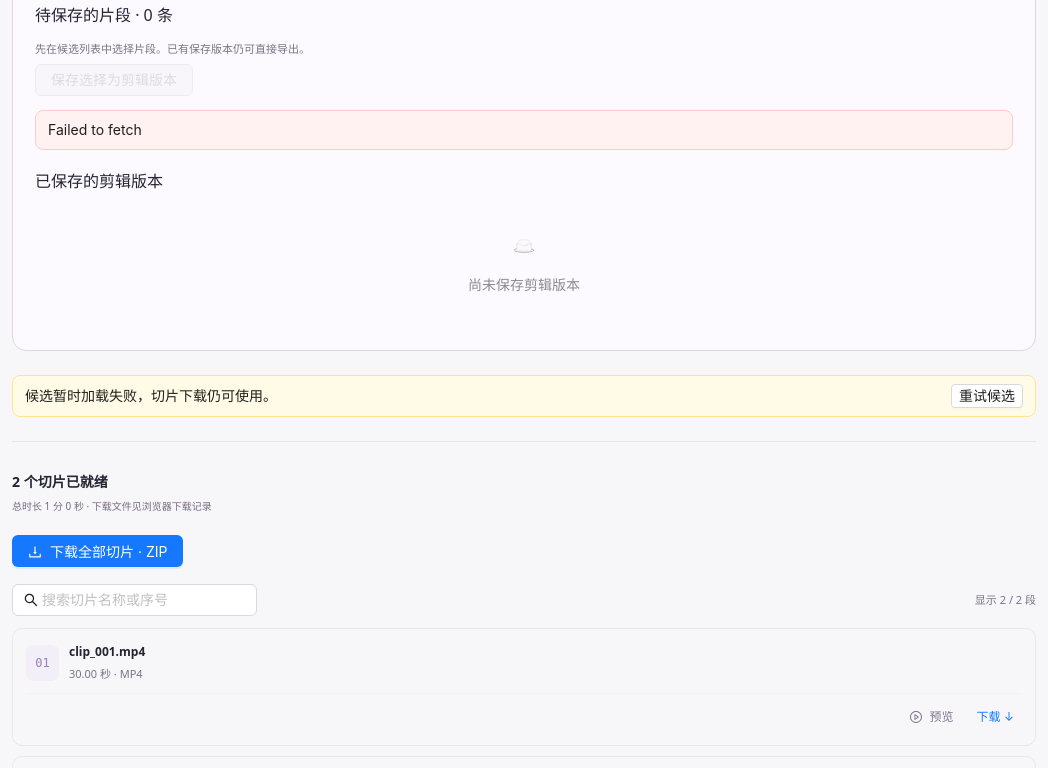
Test: candidate results › retries after failure while keeping clip downloads usable
This screenshot has width=1048, height=768.
(page scrolled)
Expected: the text "候选暂时加载失败，切片下载仍可使用。" is shown, [25,387,277,404]
Expected: the link "下载全部切片 · ZIP" is shown, [12,535,183,567]
Click the button "重试候选": coordinates (987, 396) [951,384,1023,408]
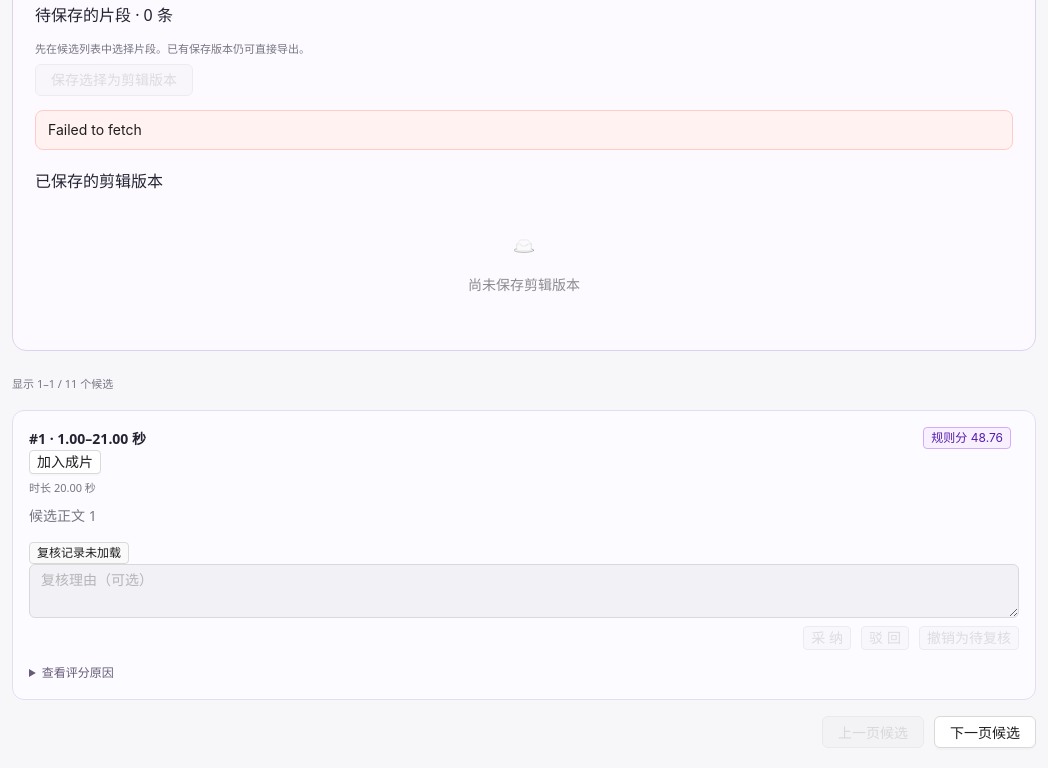
Now the text "候选正文 1" is shown, box [29,506,97,525]
